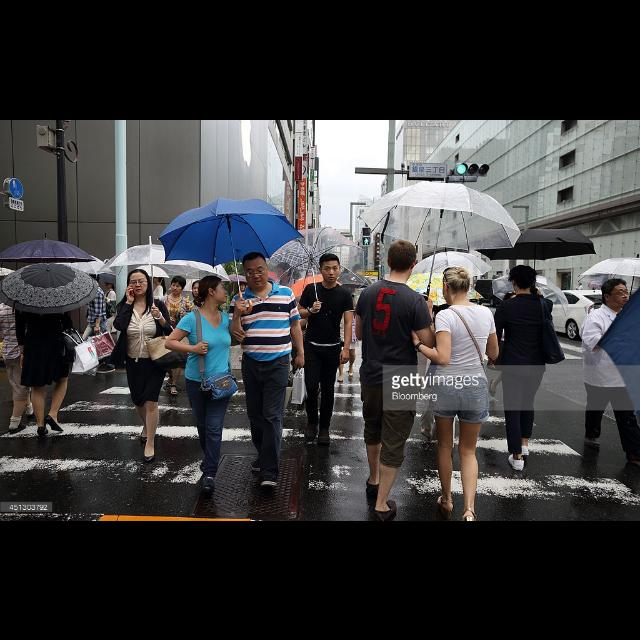head: (442, 265, 472, 305), (387, 240, 417, 276), (242, 251, 270, 289), (200, 274, 230, 304), (602, 278, 632, 306), (319, 252, 343, 284), (510, 264, 536, 292), (128, 268, 150, 296), (34, 280, 56, 300), (170, 274, 188, 296), (5, 280, 19, 296), (506, 290, 518, 304), (85, 269, 97, 283), (192, 280, 202, 296), (151, 273, 163, 283), (106, 278, 114, 290), (579, 282, 583, 286)
person: (224, 248, 308, 490), (163, 274, 249, 494), (103, 267, 195, 463), (486, 262, 568, 470), (13, 275, 101, 439), (291, 250, 355, 448), (0, 279, 46, 435), (486, 288, 538, 404), (71, 268, 121, 377), (156, 274, 194, 396), (182, 278, 214, 380), (96, 278, 120, 354), (150, 273, 168, 339), (574, 280, 584, 304)
